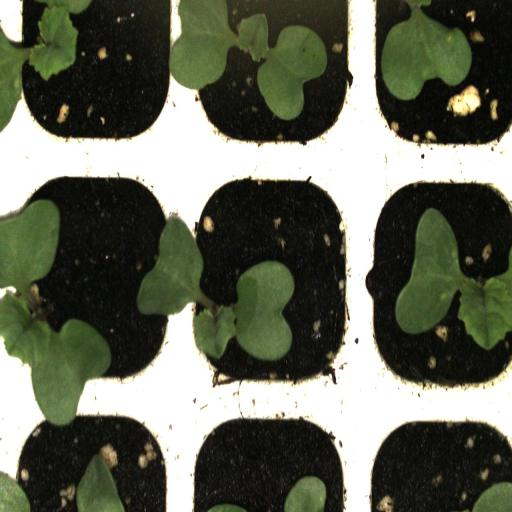Folha: (0, 0, 92, 130), (194, 260, 295, 362), (381, 0, 472, 101), (137, 218, 205, 317), (76, 456, 125, 512)
Germinacao: (176, 158, 356, 401), (0, 155, 174, 398), (356, 156, 512, 404), (178, 0, 360, 157)
